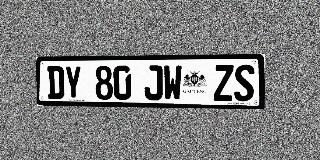0: (113, 65, 131, 100)
8: (95, 65, 113, 100)
D: (47, 66, 64, 99)
J: (144, 65, 163, 100)
S: (234, 64, 254, 101)
W: (163, 65, 182, 101)
Y: (64, 66, 82, 99)
Z: (214, 65, 234, 101)
